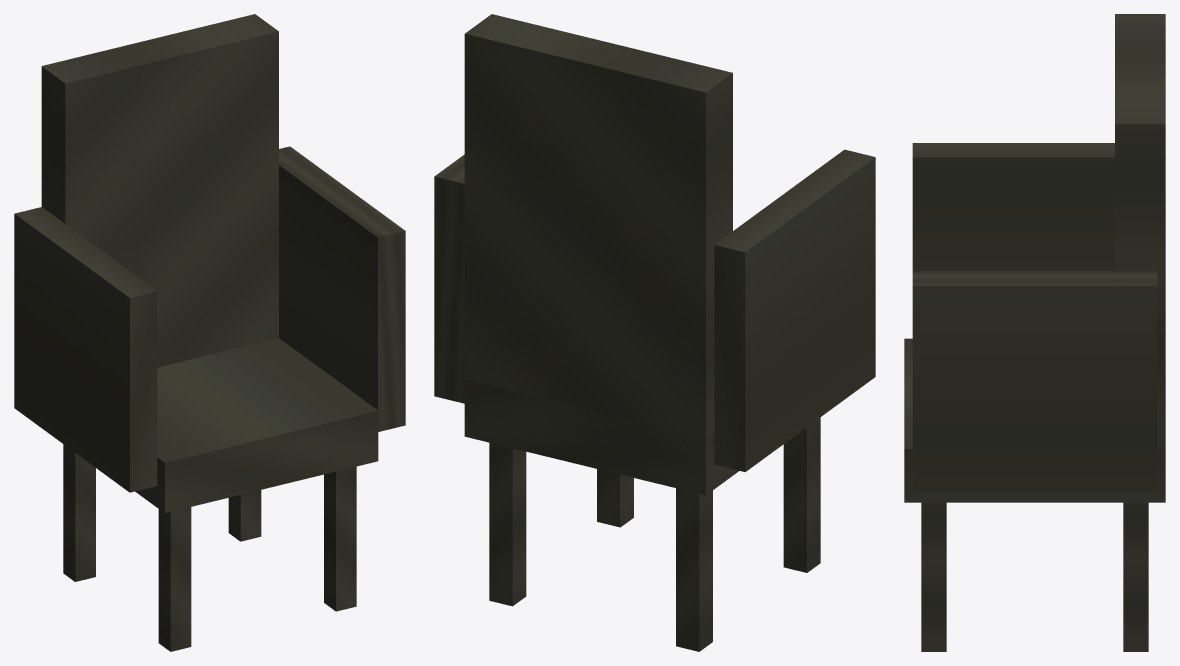
The model's file is prop_interrogation_chair_a.glb.
3 renders of one model, left to right at view 1: azimuth 30°, elevation 25°; view 2: azimuth 150°, elevation 25°; view 3: azimuth 270°, elevation 25°, orthographic. The views are drawn at different scales.
Visible parts, largest first — view 1: prop_interrogation_chair_a; view 2: prop_interrogation_chair_a; view 3: prop_interrogation_chair_a.
Boxes of the visible parts, bbox=[...] form: prop_interrogation_chair_a: bbox=[14, 14, 405, 651]; prop_interrogation_chair_a: bbox=[434, 14, 875, 651]; prop_interrogation_chair_a: bbox=[904, 14, 1165, 651].
Bounding box in the file's own units: 0.8 × 1.4 × 0.62.
1 material, 1 textured.
